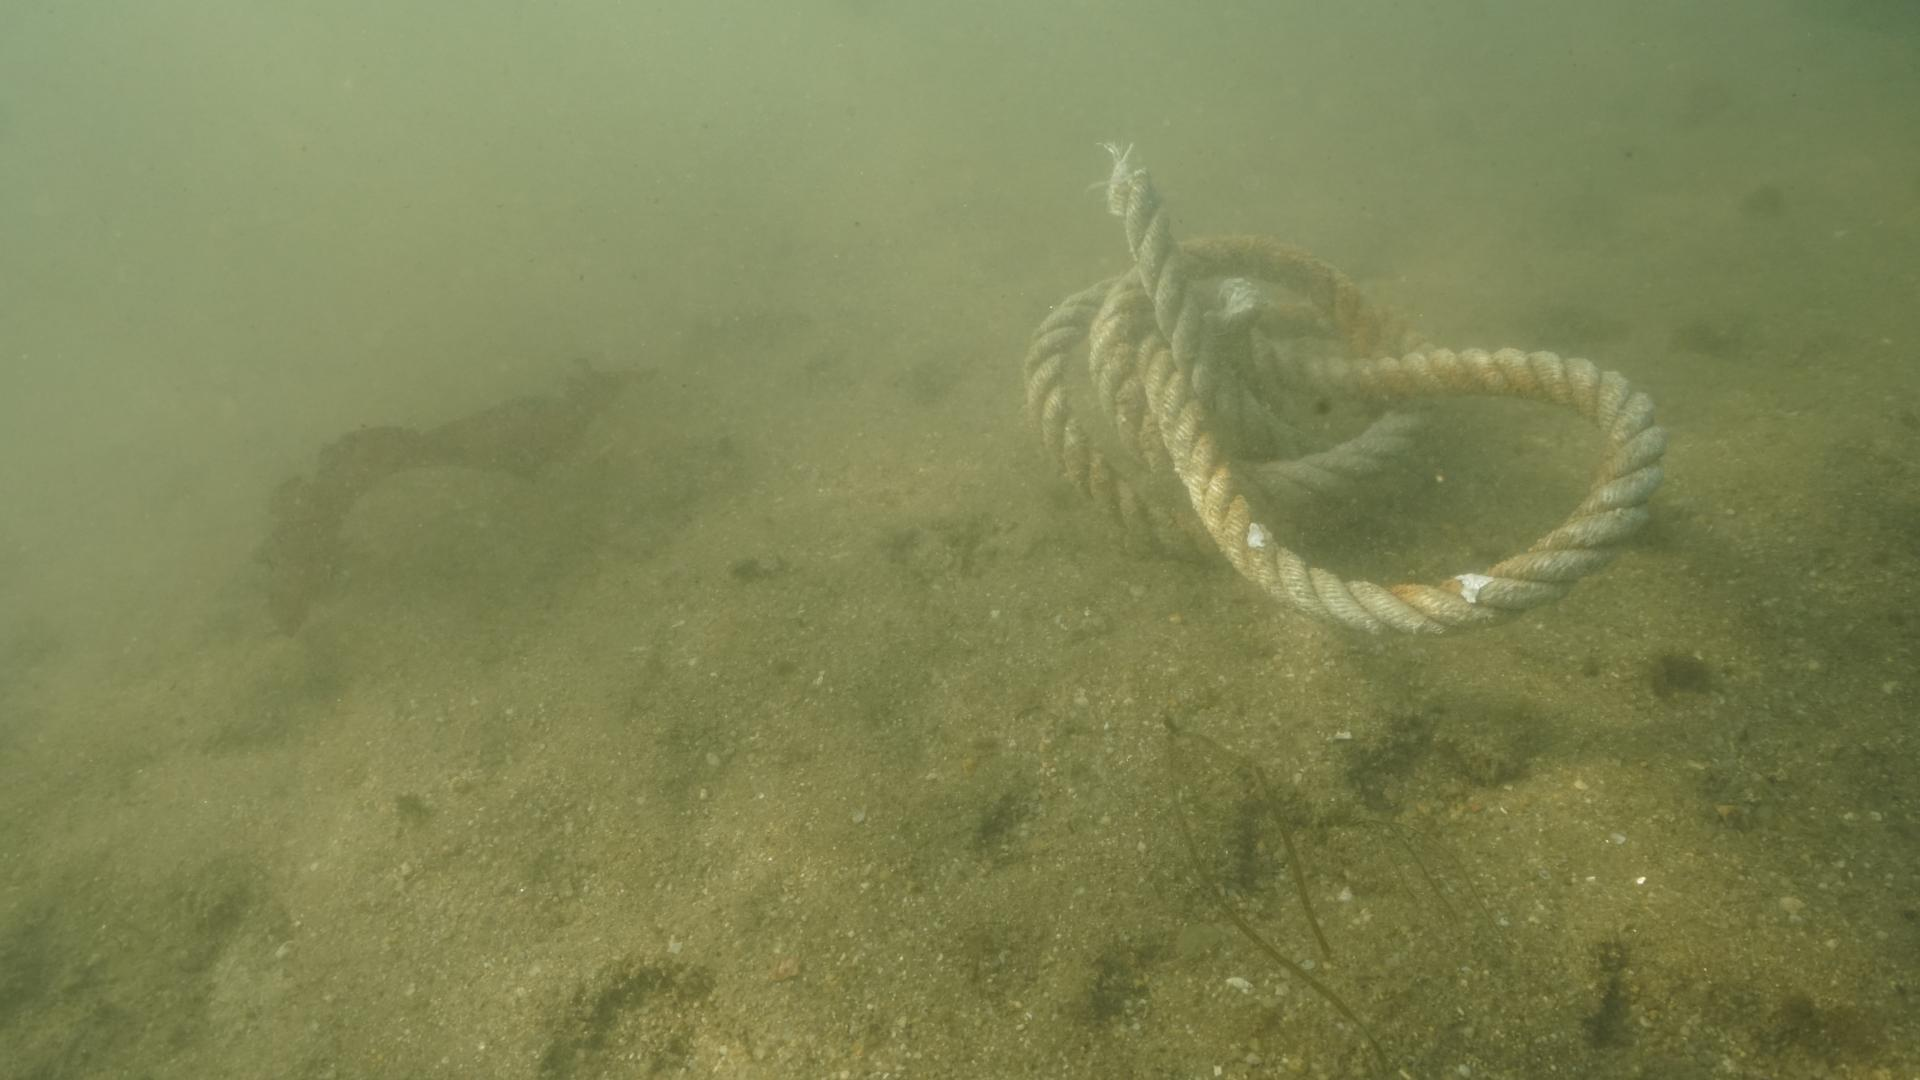bundle of ropes: (1015, 173, 1665, 644)
